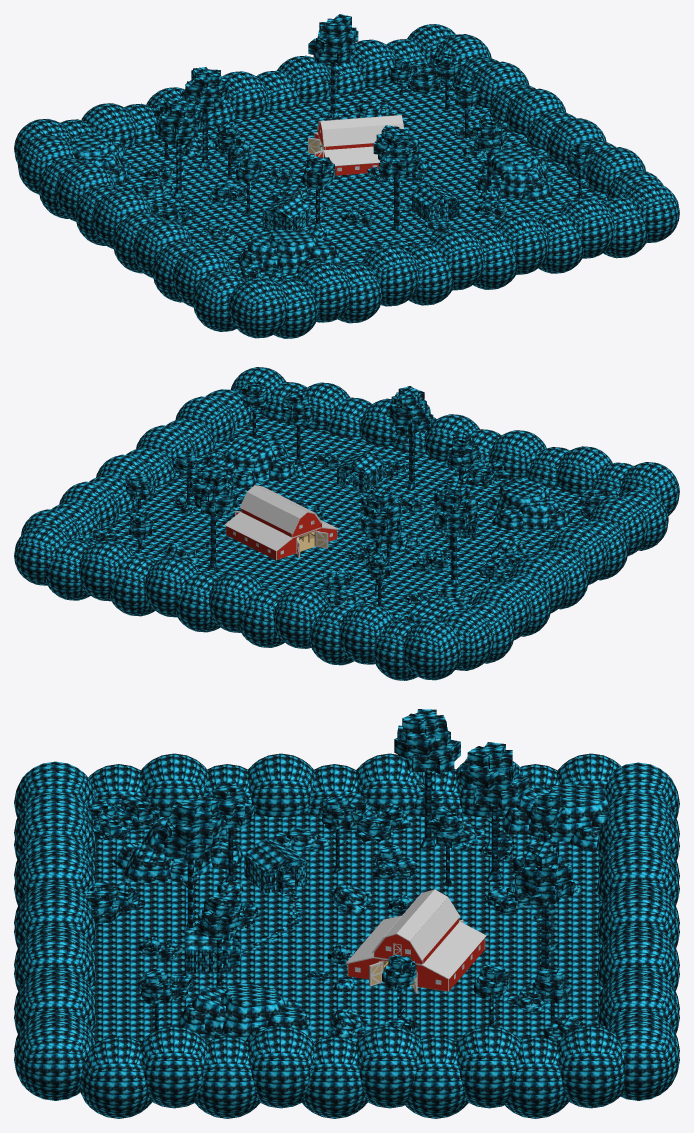
The model's file is Map_Farm.fbx.
3 renders of one model, top to bottom at view 1: azimuth 30°, elevation 25°; view 2: azimuth 150°, elevation 25°; view 3: azimuth 270°, elevation 25°, orthographic. The views are drawn at different scales.
Parts seen in each view (by area): view 1: Map_Farm; view 2: Map_Farm; view 3: Map_Farm.
Boxes of the visible parts, box(x1,y1,x2,y2) form: Map_Farm: box(14, 14, 679, 338); Map_Farm: box(14, 367, 679, 680); Map_Farm: box(14, 709, 679, 1118).
Bounding box in the file's own units: 42129 × 11062 × 38560.
